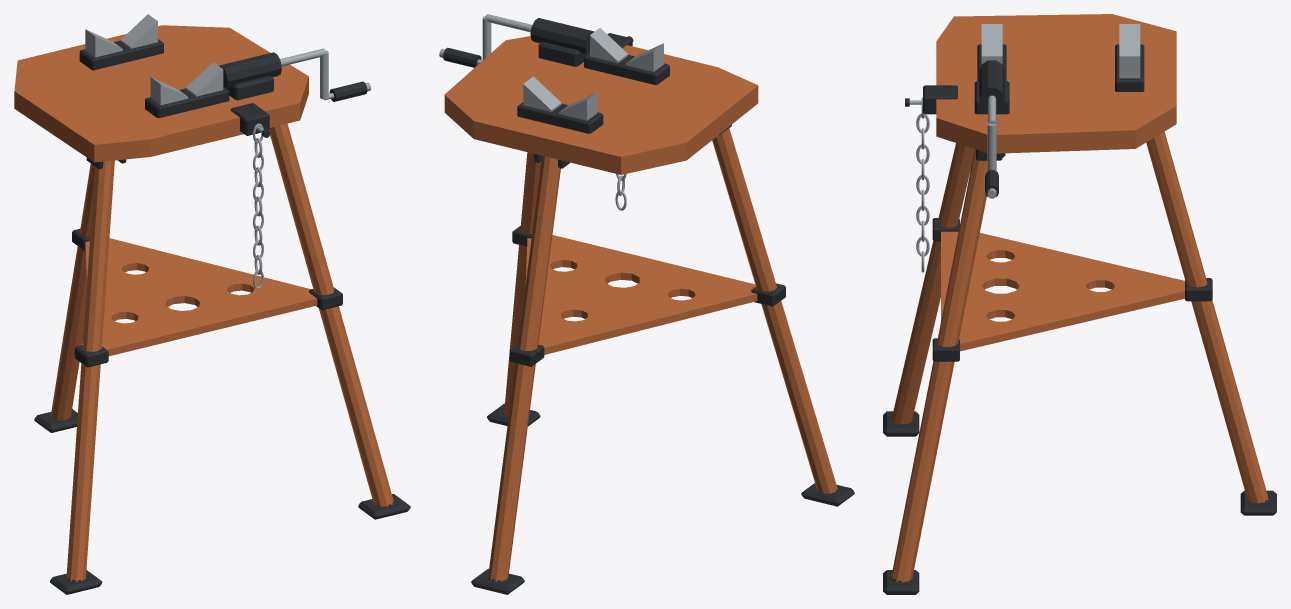
File: A-NEW-20261026-TRIPOD-PIPE-VISE-001_LOD2_R3.fbx
The picture shows the model from 3 angles, left to right: view 1: azimuth 30°, elevation 25°; view 2: azimuth 150°, elevation 25°; view 3: azimuth 270°, elevation 25°; orthographic projection. The views are drawn at different scales.
Parts seen in each view (by area): view 1: irregular work table, triangular open tool tray, hollow tubular leg 0, hollow tubular leg 1, hollow tubular leg 2, clamp crank bearing, V jaw pedestal, V jaw pedestal.001, raised V pipe jaw.001, raised V pipe jaw.003, chain anchor table bracket, crank housing table mount (+6 smaller); view 2: irregular work table, triangular open tool tray, hollow tubular leg 2, hollow tubular leg 0, hollow tubular leg 1, clamp crank bearing, V jaw pedestal.001, V jaw pedestal, raised V pipe jaw.003, raised V pipe jaw.001, crank housing table mount, flat leg ground foot 2 (+4 smaller); view 3: irregular work table, triangular open tool tray, hollow tubular leg 1, hollow tubular leg 2, hollow tubular leg 0, clamp crank bearing, V jaw pedestal.001, chain anchor table bracket, raised V pipe jaw, raised V pipe jaw.002, flat leg ground foot 0, flat leg ground foot 2 (+1 smaller).
Part boxes in pixels (bbox=[...]): irregular work table: bbox=[14, 25, 308, 162]; triangular open tool tray: bbox=[85, 238, 317, 356]; hollow tubular leg 0: bbox=[66, 160, 114, 581]; hollow tubular leg 1: bbox=[268, 123, 393, 506]; hollow tubular leg 2: bbox=[51, 163, 94, 420]; clamp crank bearing: bbox=[219, 52, 281, 88]; V jaw pedestal: bbox=[145, 87, 229, 118]; V jaw pedestal.001: bbox=[79, 39, 163, 70]; raised V pipe jaw.001: bbox=[186, 62, 223, 96]; raised V pipe jaw.003: bbox=[120, 14, 157, 48]; chain anchor table bracket: bbox=[230, 103, 269, 135]; crank housing table mount: bbox=[226, 75, 273, 100]; irregular work table: bbox=[444, 36, 758, 174]; triangular open tool tray: bbox=[525, 235, 757, 354]; hollow tubular leg 2: bbox=[488, 156, 560, 581]; hollow tubular leg 0: bbox=[712, 128, 837, 493]; hollow tubular leg 1: bbox=[504, 152, 541, 416]; clamp crank bearing: bbox=[530, 18, 593, 54]; V jaw pedestal.001: bbox=[517, 102, 603, 133]; V jaw pedestal: bbox=[584, 53, 669, 84]; raised V pipe jaw.003: bbox=[523, 76, 561, 111]; raised V pipe jaw.001: bbox=[590, 28, 627, 63]; crank housing table mount: bbox=[538, 41, 586, 66]; flat leg ground foot 2: bbox=[471, 568, 524, 594]; irregular work table: bbox=[936, 14, 1176, 153]; triangular open tool tray: bbox=[941, 231, 1184, 351]; hollow tubular leg 1: bbox=[891, 149, 987, 582]; hollow tubular leg 2: bbox=[1146, 131, 1268, 503]; hollow tubular leg 0: bbox=[891, 143, 974, 424]; clamp crank bearing: bbox=[979, 60, 1004, 109]; V jaw pedestal.001: bbox=[1115, 44, 1144, 91]; chain anchor table bracket: bbox=[923, 85, 957, 114]; raised V pipe jaw: bbox=[981, 24, 1002, 56]; raised V pipe jaw.002: bbox=[1119, 24, 1140, 56]; flat leg ground foot 0: bbox=[883, 411, 919, 436]; flat leg ground foot 2: bbox=[1240, 490, 1276, 515].
Bounding box in the file's own units: 73.75 × 88 × 67.2.
